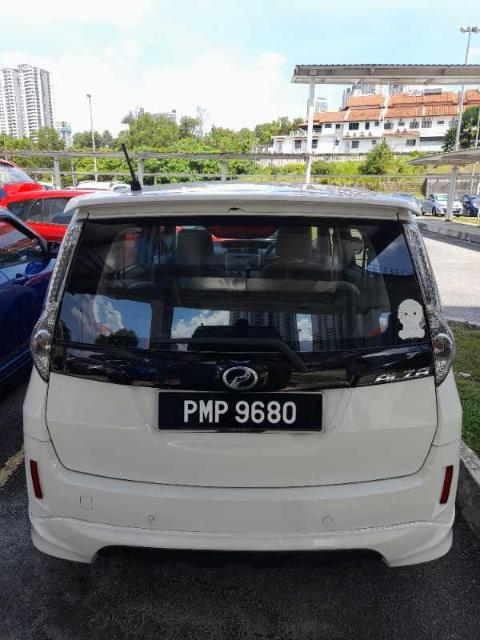License_Plate: (157, 390, 325, 433)
car: (22, 181, 465, 569)
